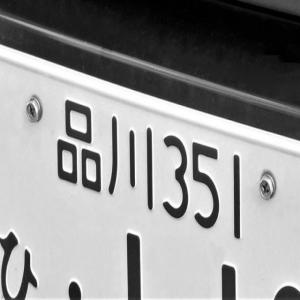Plate: (0, 45, 300, 299)
